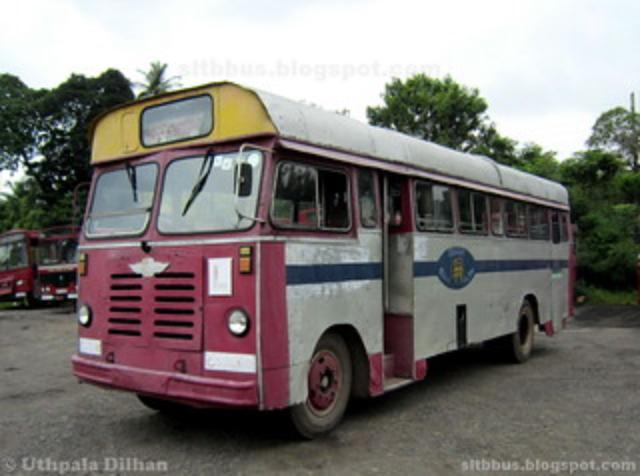bus: (70, 82, 572, 440), (34, 226, 82, 310), (2, 226, 34, 310)
